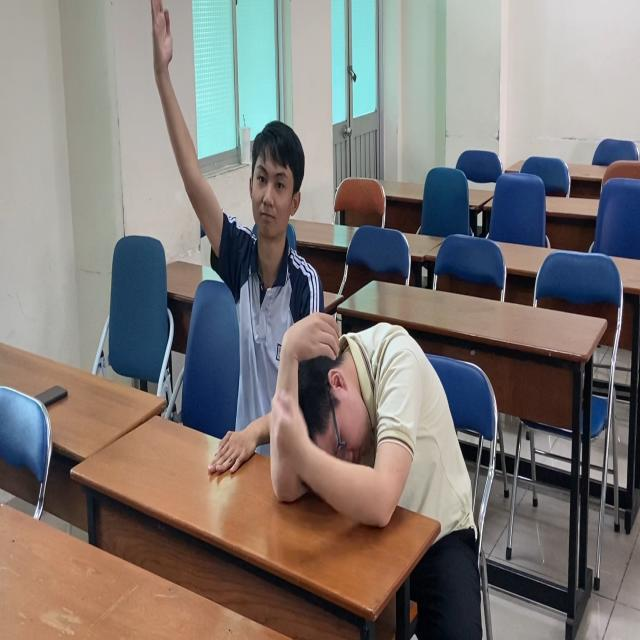raise_hand: (152, 4, 307, 471)
sleep: (271, 316, 473, 520)
